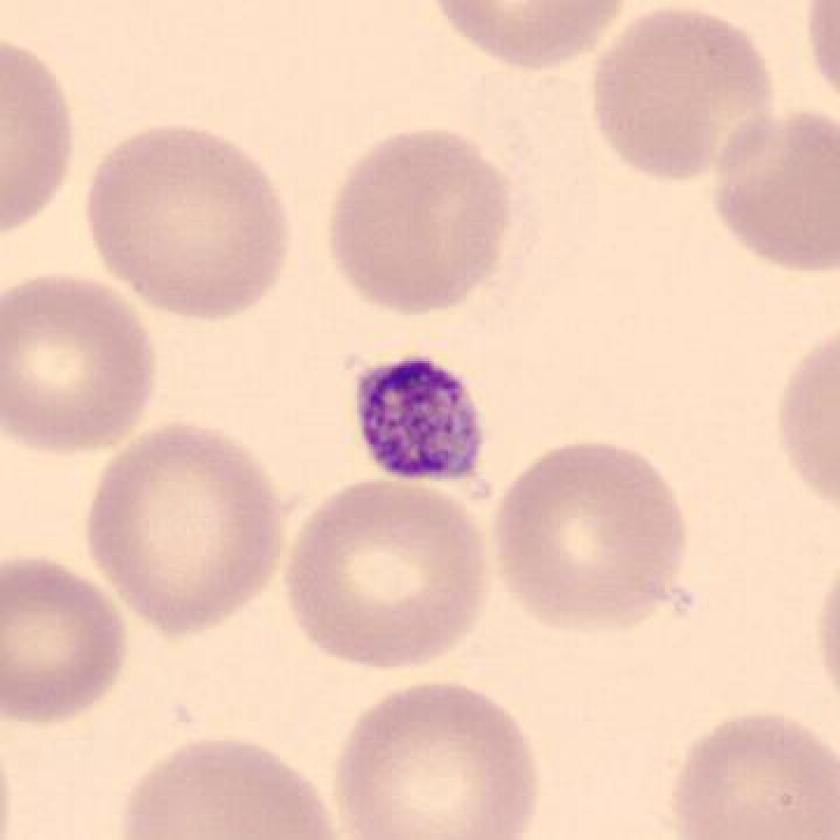platelets: (349, 351, 493, 490)
